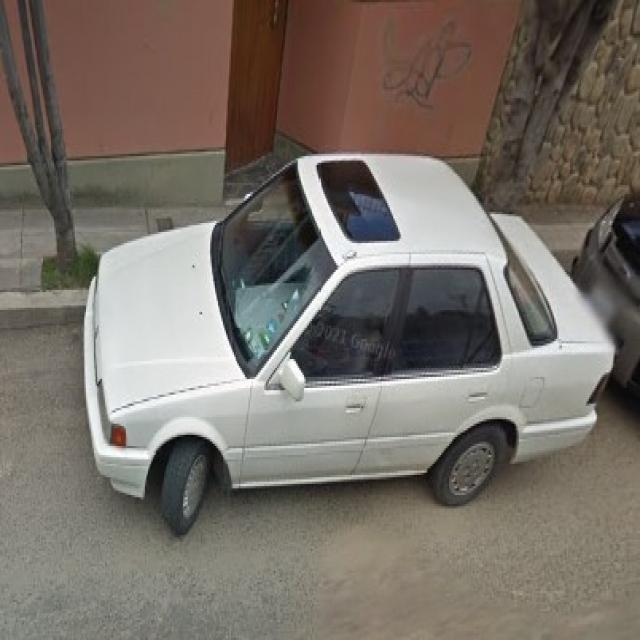truck: (86, 141, 611, 528)
